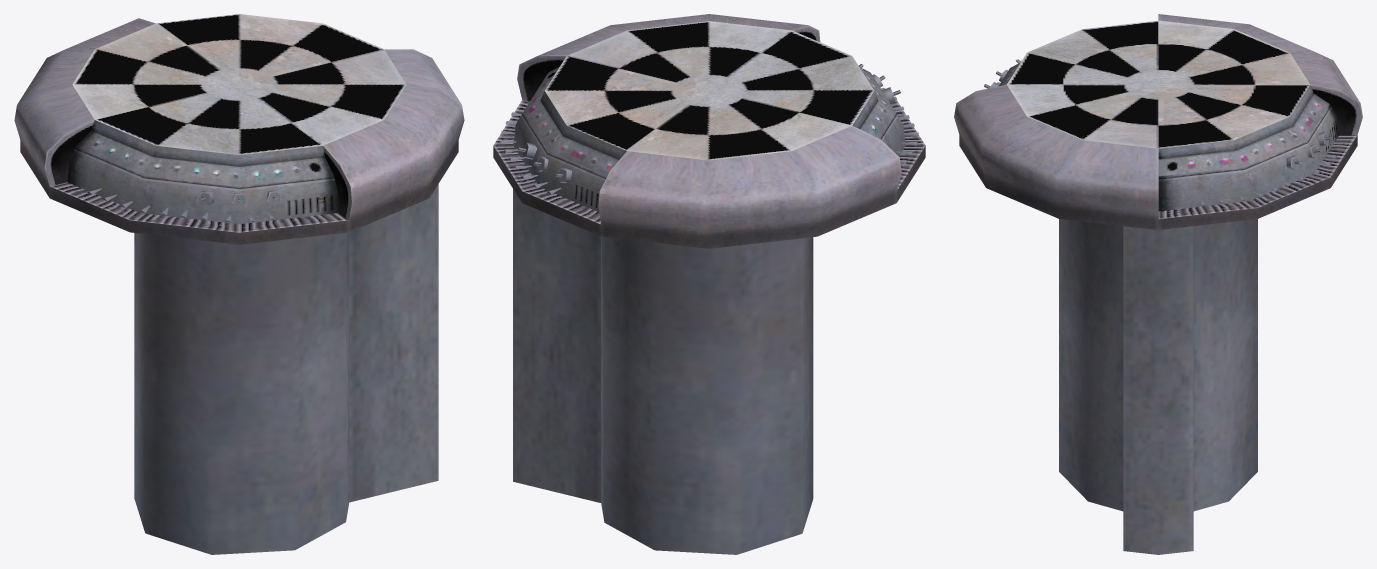
Rendered from eqp_game_dejarik_gameboard_l0.fbx.
The picture shows the model from 3 angles, left to right: view 1: azimuth 30°, elevation 25°; view 2: azimuth 150°, elevation 25°; view 3: azimuth 270°, elevation 25°; orthographic projection. The views are drawn at different scales.
Visible parts, largest first — view 1: mesh_node; view 2: mesh_node; view 3: mesh_node.
Boxes of the visible parts, x1,y1,x2,y2 form: mesh_node: (14, 14, 464, 554); mesh_node: (493, 14, 925, 554); mesh_node: (954, 14, 1362, 554).
Bounding box in the file's own units: 0.8153 × 0.8509 × 0.8153.
